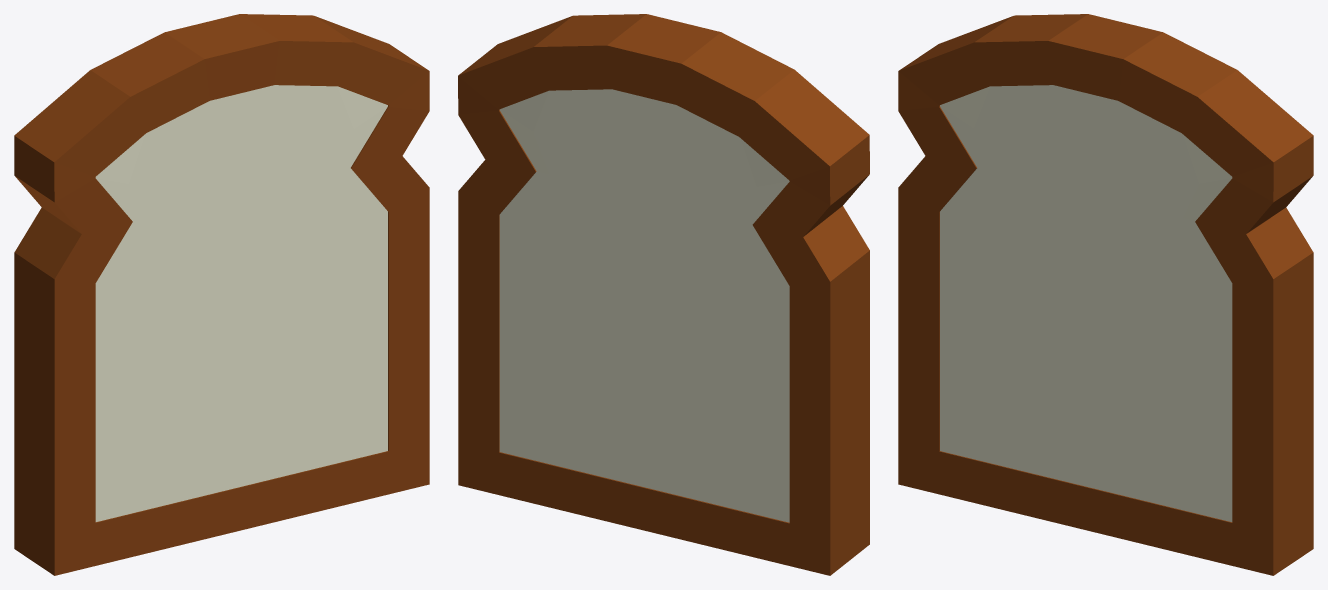
File: BreadCutModel.fbx
3 views of the same model, side by side, from view 1: azimuth 30°, elevation 25°; view 2: azimuth 150°, elevation 25°; view 3: azimuth 330°, elevation 25° (orthographic).
Visible parts, largest first — view 1: BreadCut; view 2: BreadCut; view 3: BreadCut.
Part boxes in pixels (bbox=[...]): BreadCut: bbox=[14, 14, 429, 575]; BreadCut: bbox=[458, 14, 869, 575]; BreadCut: bbox=[898, 14, 1313, 575].
Size of the model in its own units: 30.59 by 5.7 by 37.6.
